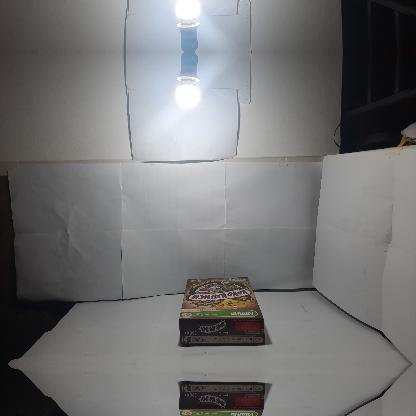Koko-Krunch: (179, 277, 265, 345), (179, 383, 266, 415)
